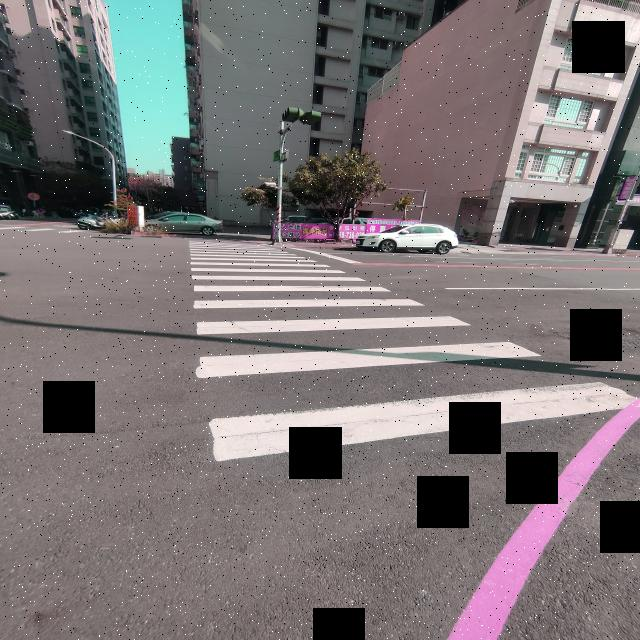zebra crossing: (188, 236, 640, 463), (0, 226, 85, 233)
